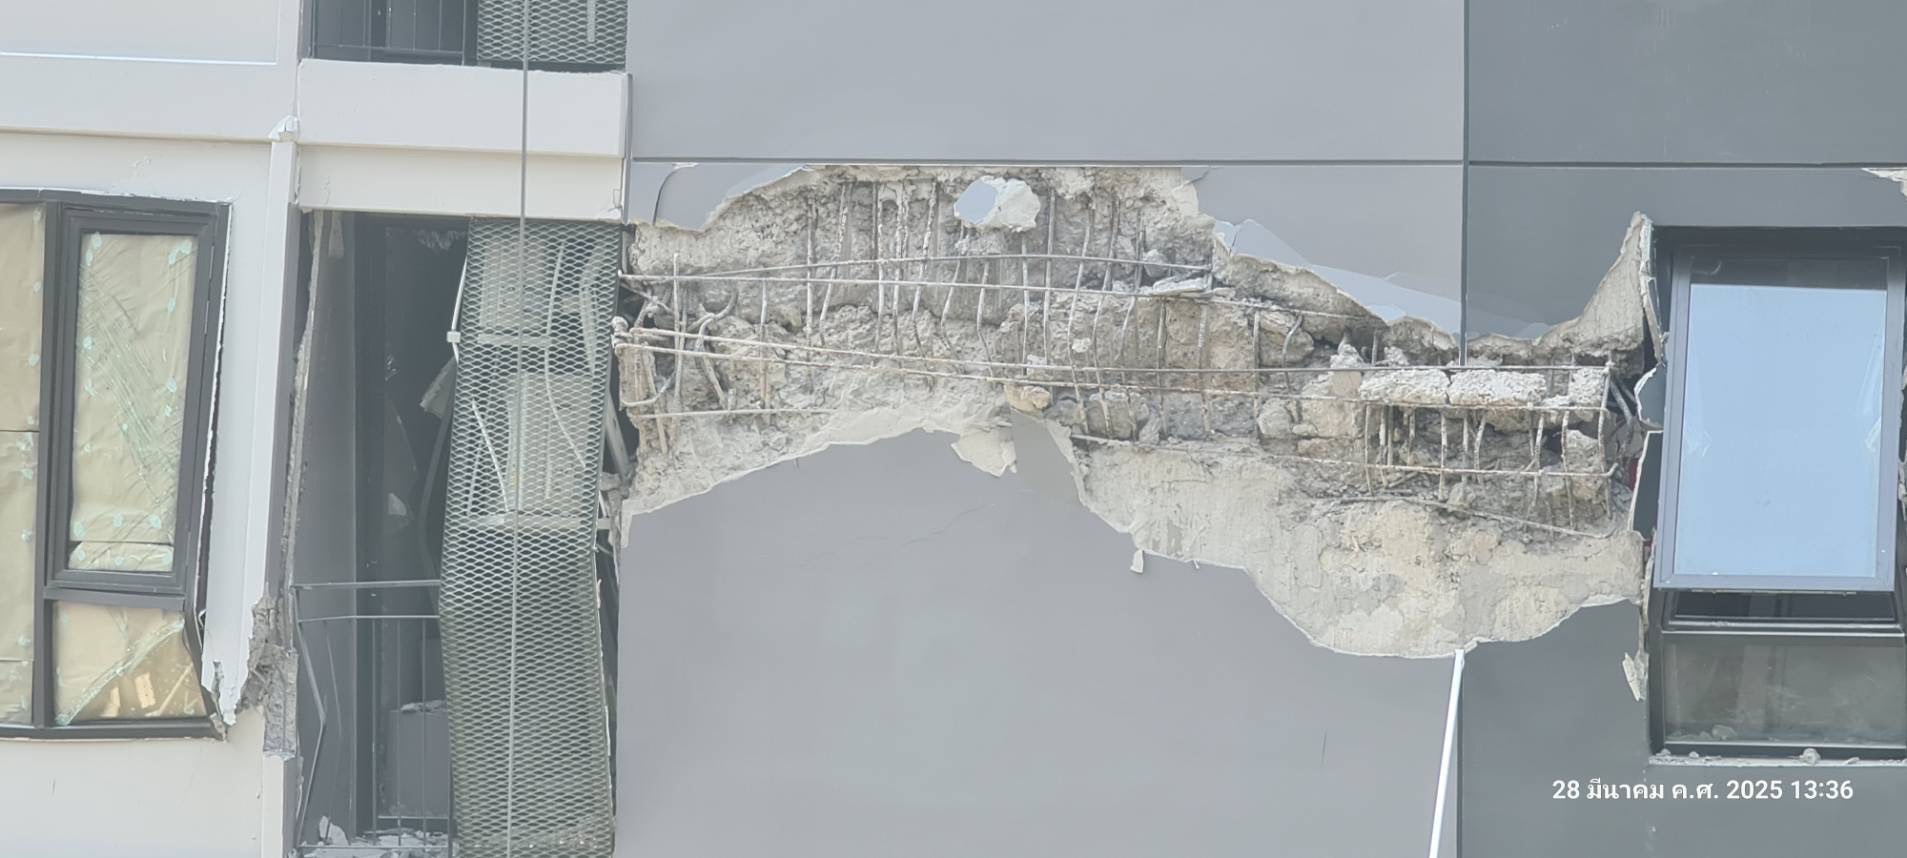High: (415, 127, 1712, 761)
